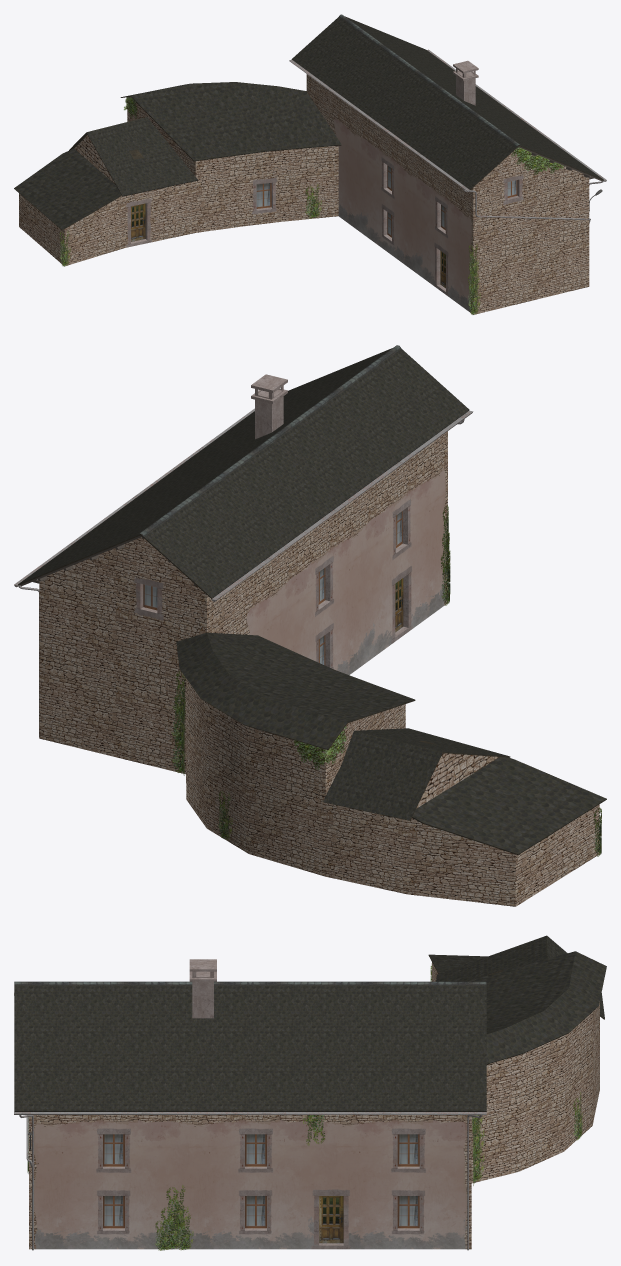
The model's file is low_poly_old_stone_house.glb.
The picture shows the model from 3 angles, top to bottom: view 1: azimuth 30°, elevation 25°; view 2: azimuth 150°, elevation 25°; view 3: azimuth 270°, elevation 25°; orthographic projection. The views are drawn at different scales.
Parts seen in each view (by area): view 1: Object_2; view 2: Object_2; view 3: Object_2.
Boxes of the visible parts, <box> form: Object_2: <box>14,14,606,314</box>; Object_2: <box>14,345,606,906</box>; Object_2: <box>14,935,606,1250</box>.
Bounding box in the file's own units: 2185 × 1004 × 2171.
1 material, 1 textured.
